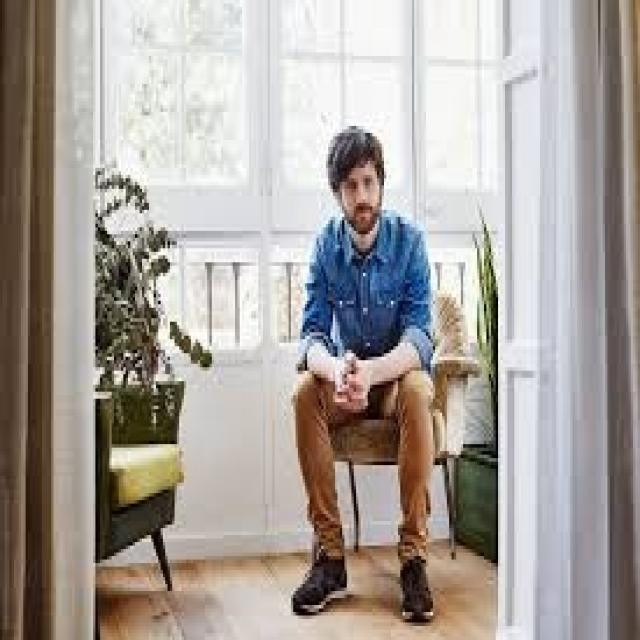sitting: (253, 125, 451, 629)
